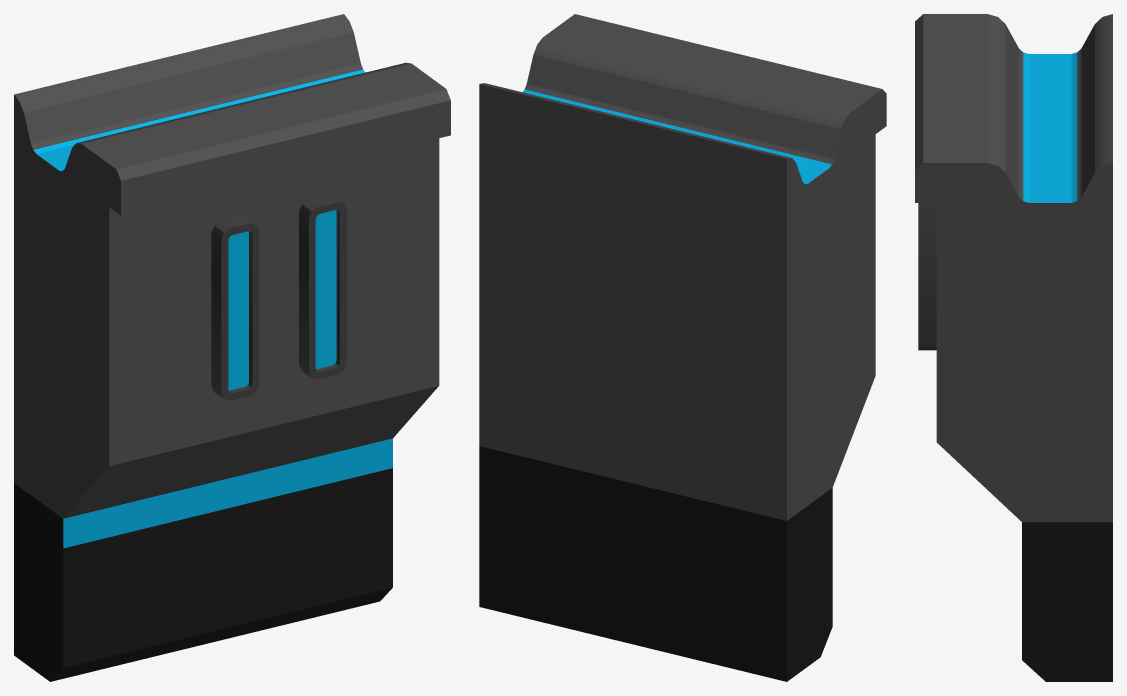
Rendered from Floor_Edge_01B.fbx.
The picture shows the model from 3 angles, left to right: view 1: azimuth 30°, elevation 25°; view 2: azimuth 150°, elevation 25°; view 3: azimuth 270°, elevation 25°; orthographic projection. The views are drawn at different scales.
Parts seen in each view (by area): view 1: Floor_Edge_01B; view 2: Floor_Edge_01B; view 3: Floor_Edge_01B.
Part boxes in pixels (x1=…): Floor_Edge_01B: x1=14, y1=14, x2=450, y2=681; Floor_Edge_01B: x1=479, y1=14, x2=886, y2=681; Floor_Edge_01B: x1=915, y1=14, x2=1112, y2=681.
Bounding box in the file's own units: 400 × 650 × 225.
